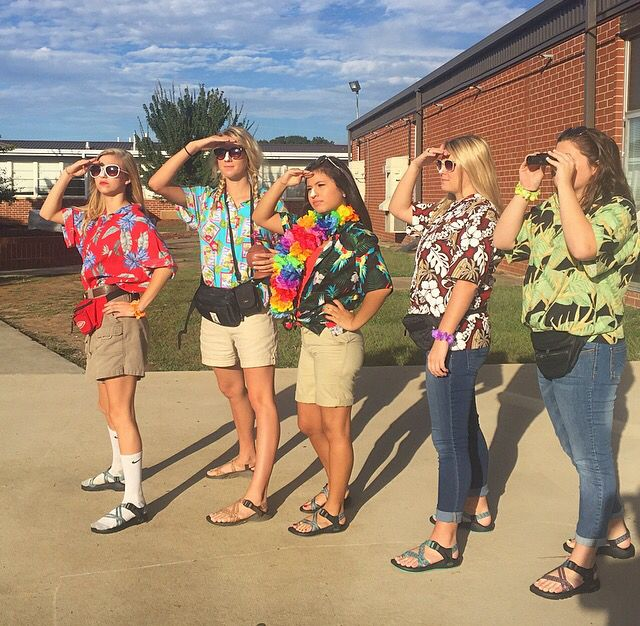Person: (501, 127, 640, 600), (39, 147, 178, 533), (391, 135, 500, 572), (271, 155, 392, 538), (177, 125, 281, 525)
